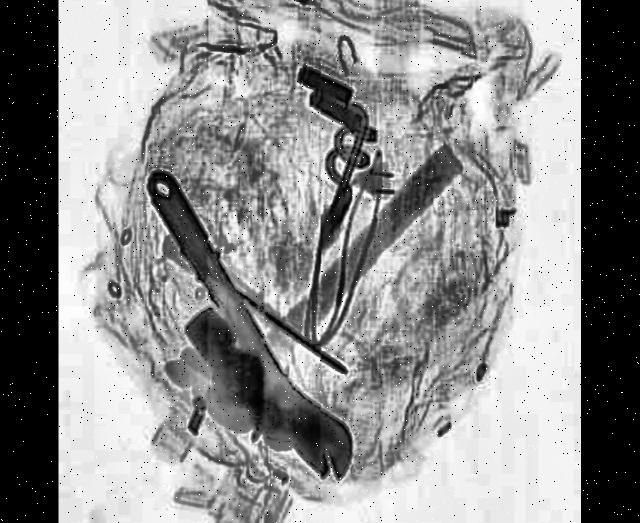Wrench: (132, 152, 362, 504)
